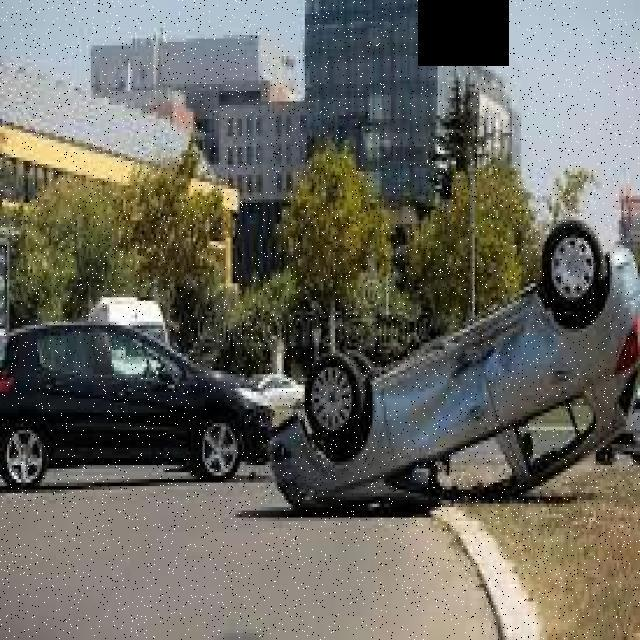severe: (243, 226, 640, 524)
